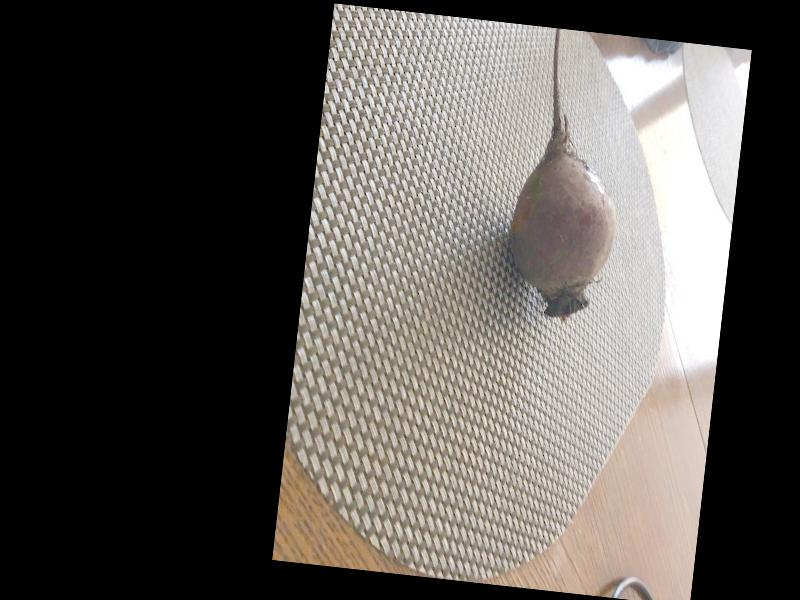Beet: (503, 28, 636, 323)
